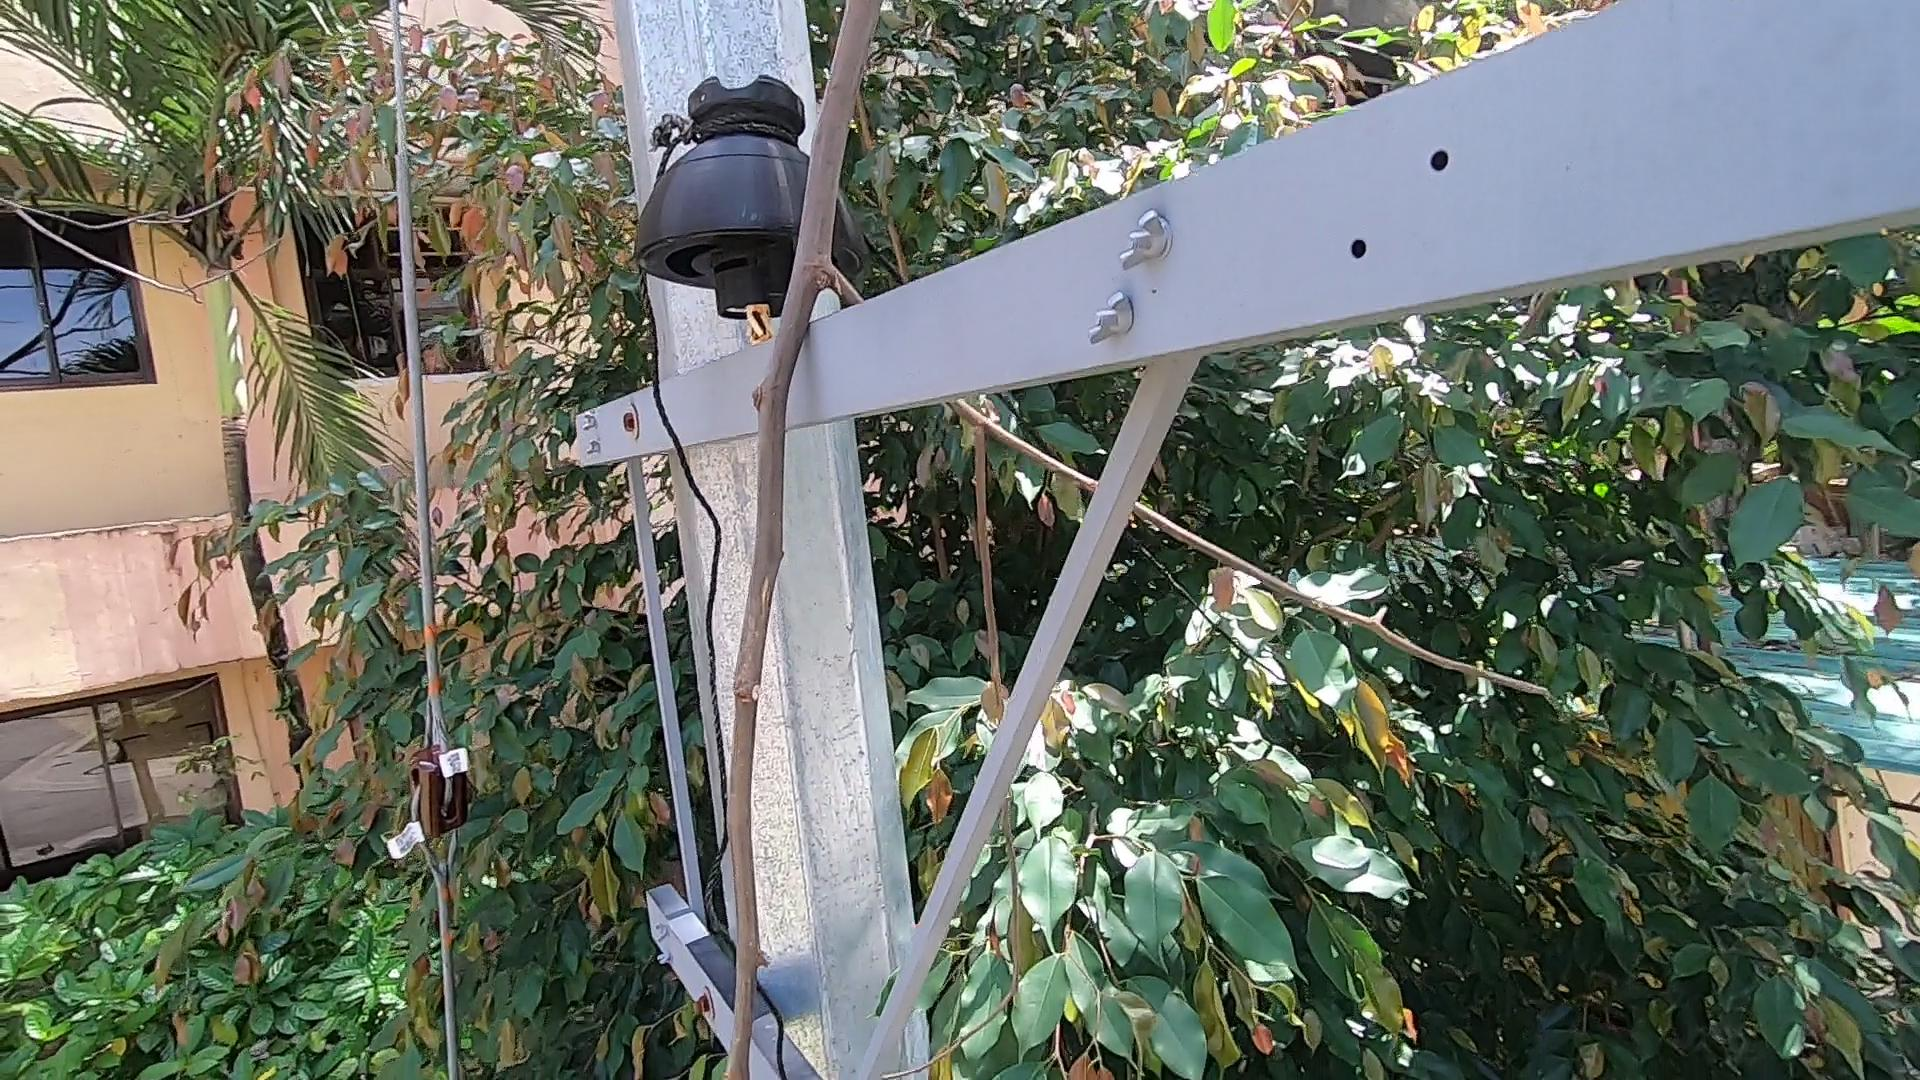tree branch: (649, 1, 909, 1080)
